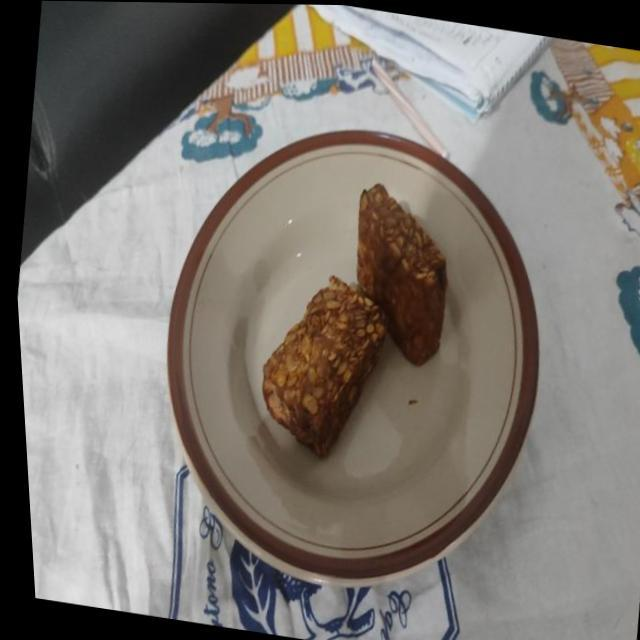tempe_goreng: (262, 276, 389, 457), (357, 183, 448, 366)
